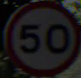Speed limit: (6, 5, 76, 70)
